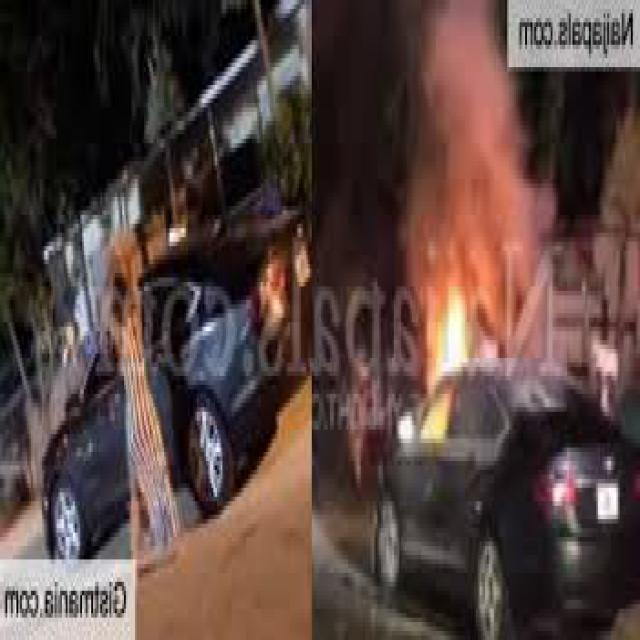Fire: (404, 180, 482, 417)
Smoke: (423, 6, 560, 356)
